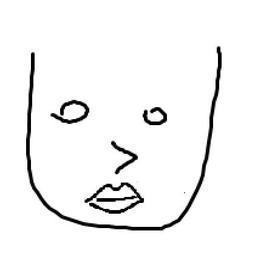cupid_mouth: (82, 179, 144, 219)
empty_eye: (45, 99, 95, 126), (140, 104, 171, 129)
pointy_nose: (105, 135, 142, 177)
